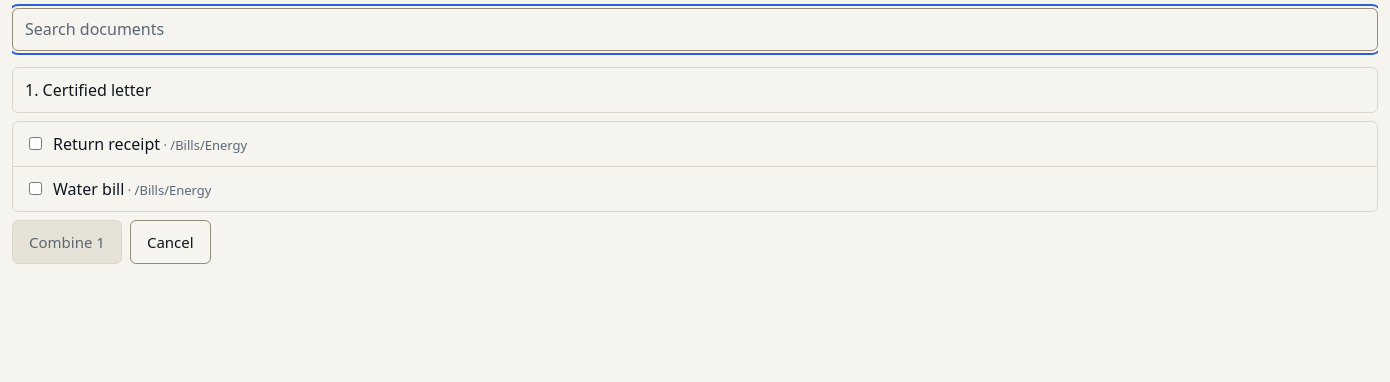
Test: DocumentChooser: combine › explains a refusal (0)
The image size is (1390, 382).
Click the checkbox labelled "Return receipt · /Bills/Energy" at (36, 144), box x1=29 y1=137 x2=42 y2=150
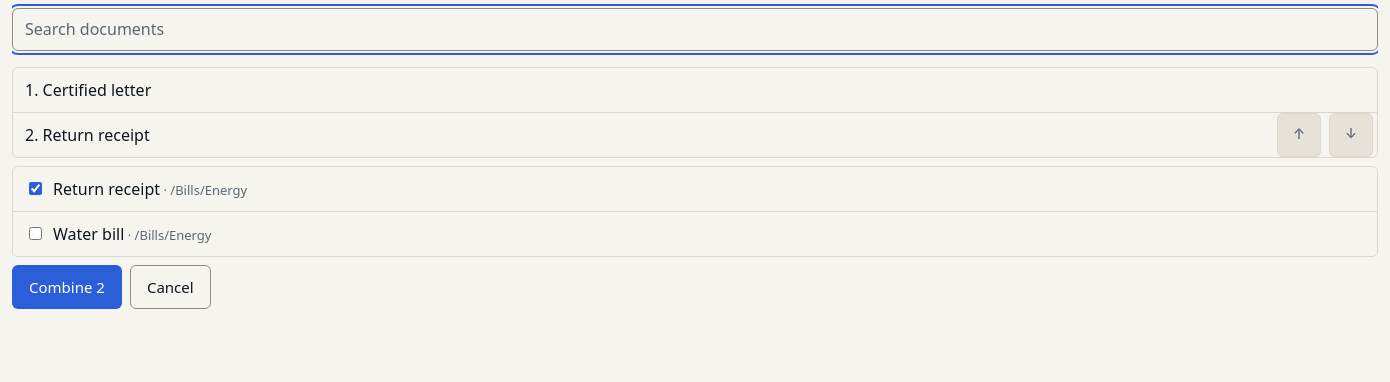
Click the button "Combine 2" at (67, 287), box x1=12 y1=265 x2=122 y2=309
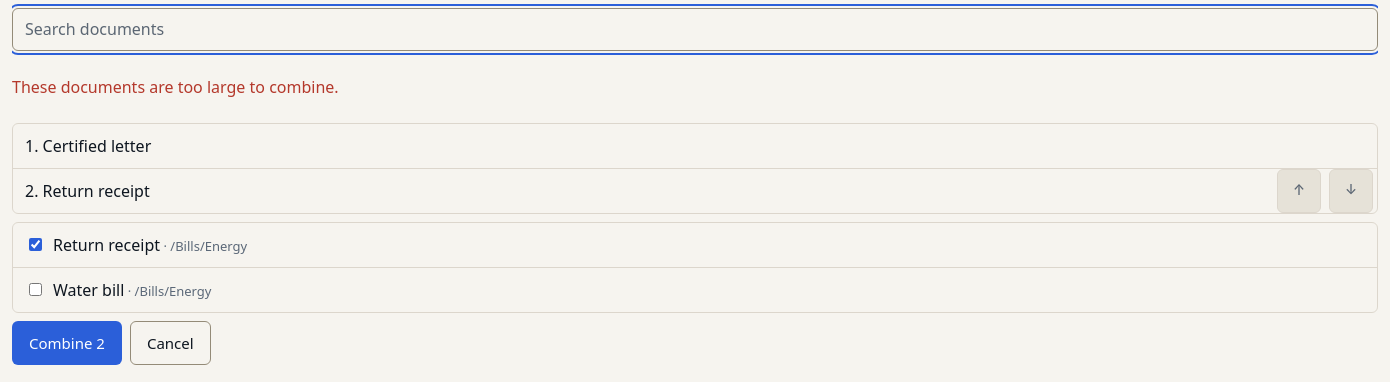
Expected: the message reads "These documents are too large to combine.", x1=12 y1=76 x2=339 y2=98
